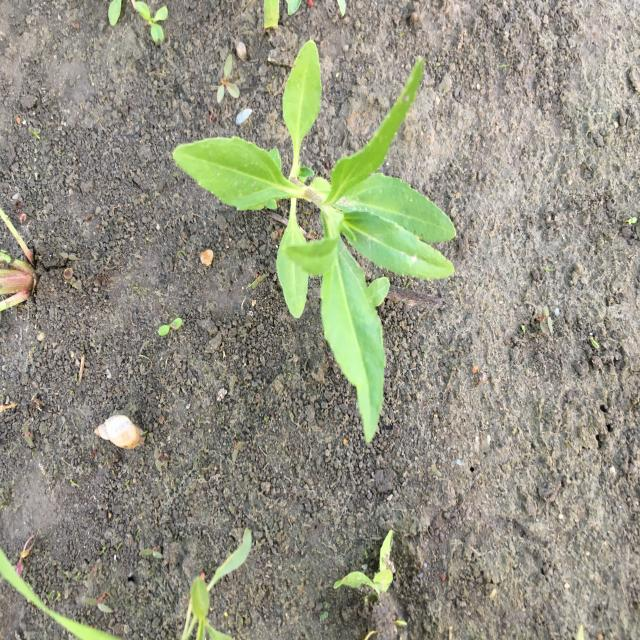Eclipta: (172, 38, 458, 443)
Waterhemp: (214, 51, 240, 107)
